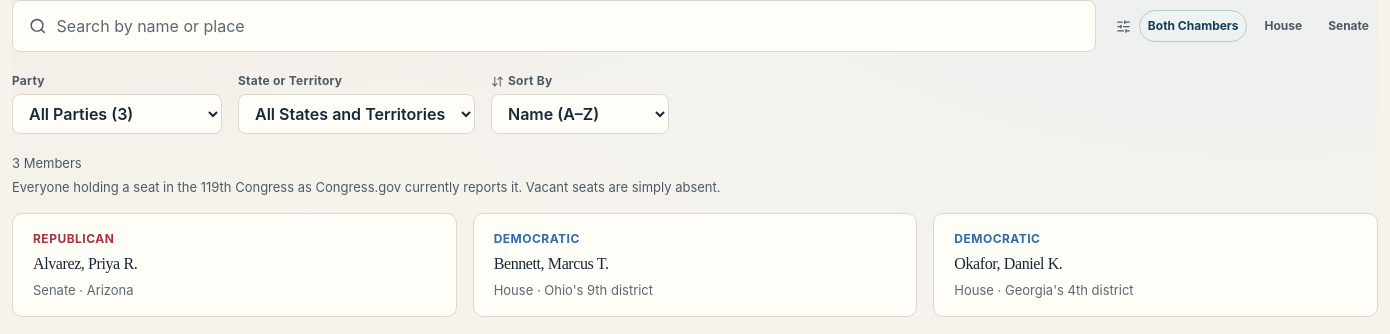
Test: MemberDirectory › names a non-default order in the live region, so a reorder is announced and not merely visible
Check: the text "Sorted by" is not shown
Select "Party" in the dropdown labelled "Sort By" at (580, 114), box 491,94 -> 669,134
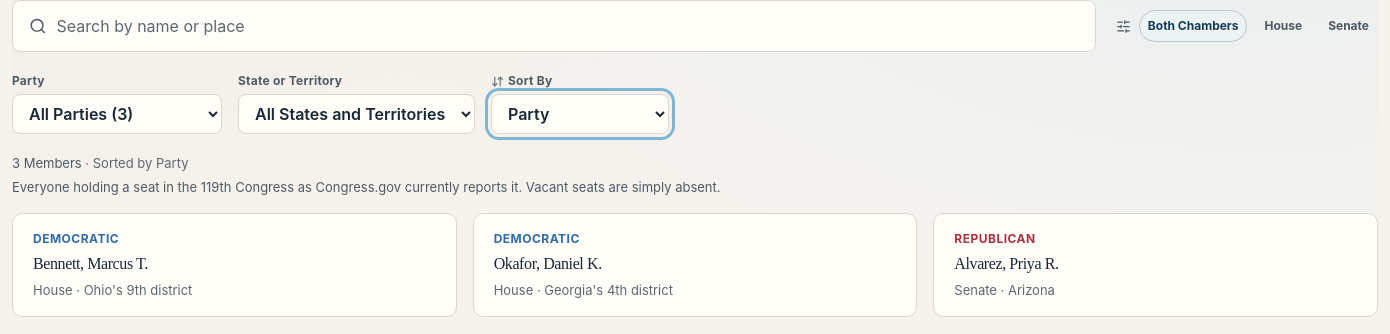
Check: the text "· Sorted by Party" is shown, box 82,155 -> 188,171
